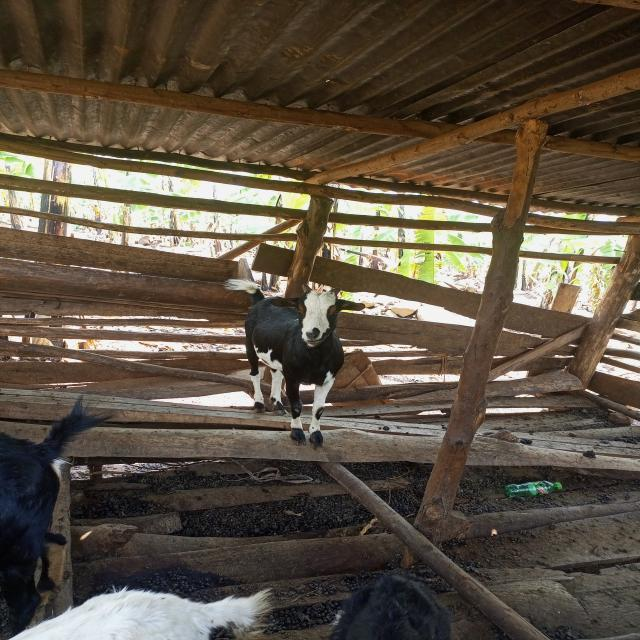goat: (188, 245, 378, 460)
